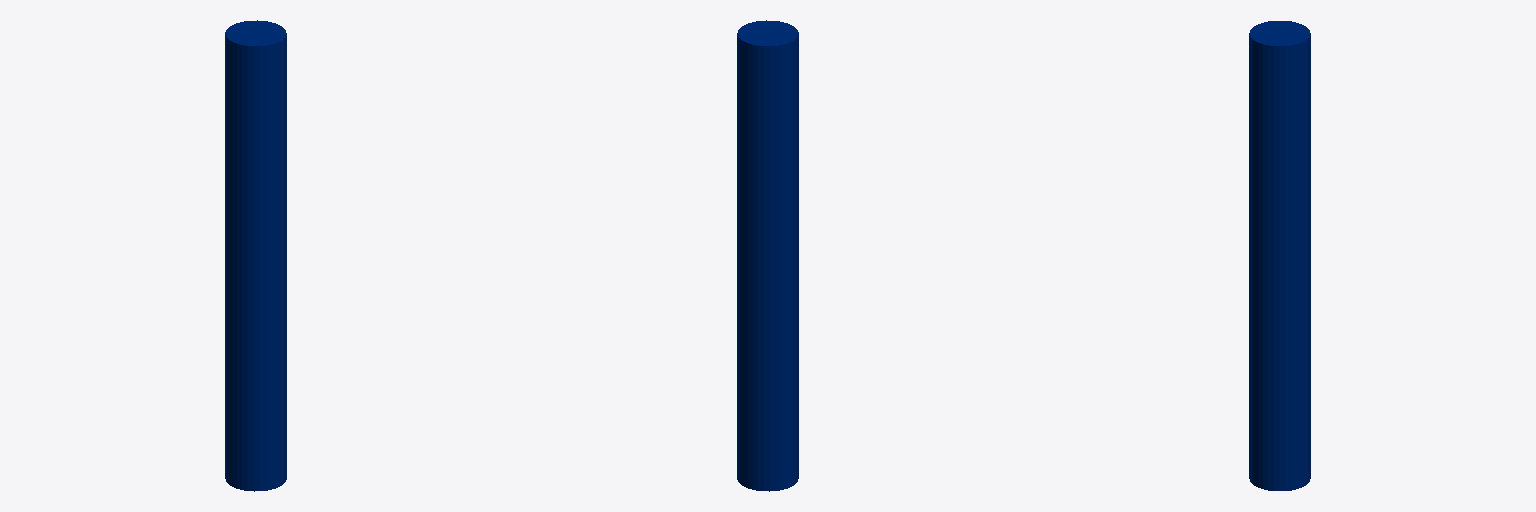
The robot description file, URDF, robot "cylinder":
<robot name="cylinder">

  <link name="cylinder">
    <visual>
      <geometry>
        <cylinder radius="0.025" length=" 0.4" />
      </geometry>
      <material name="blue">
        <color rgba="0.0 0.2 0.5 1" />
      </material>
    </visual>
    <collision>
      <geometry>
        <cylinder radius="0.025" length=" 0.5" />
      </geometry>
    </collision>
    <inertial>
      <mass value="1.0" />
      <origin xyz="2.5 0 0" rpy="0 0 0" />
      <inertia ixx="0.00130208" ixy="0" ixz="0" iyy="0.00130208" iyz="0" izz="0.00130208" />
    </inertial>
  </link>
</robot>

--- Render facts (derived) ---
3 views of the same robot in one strip: view 1: azimuth 30°, elevation 25°; view 2: azimuth 150°, elevation 25°; view 3: azimuth 270°, elevation 25° (orthographic).
Model cylinder with 1 links and 0 joints (none), rooted at cylinder, posed all joints at 0.
Visible links, largest first — view 1: cylinder; view 2: cylinder; view 3: cylinder.
Boxes of the visible links, x1,y1,x2,y2 form: cylinder: (225, 20, 286, 491); cylinder: (737, 20, 798, 491); cylinder: (1249, 21, 1310, 490).
Size in the robot's own frame: 0.05 by 0.05 by 0.4 metres.
Geometry: primitives only (box / cylinder / sphere), no mesh files.